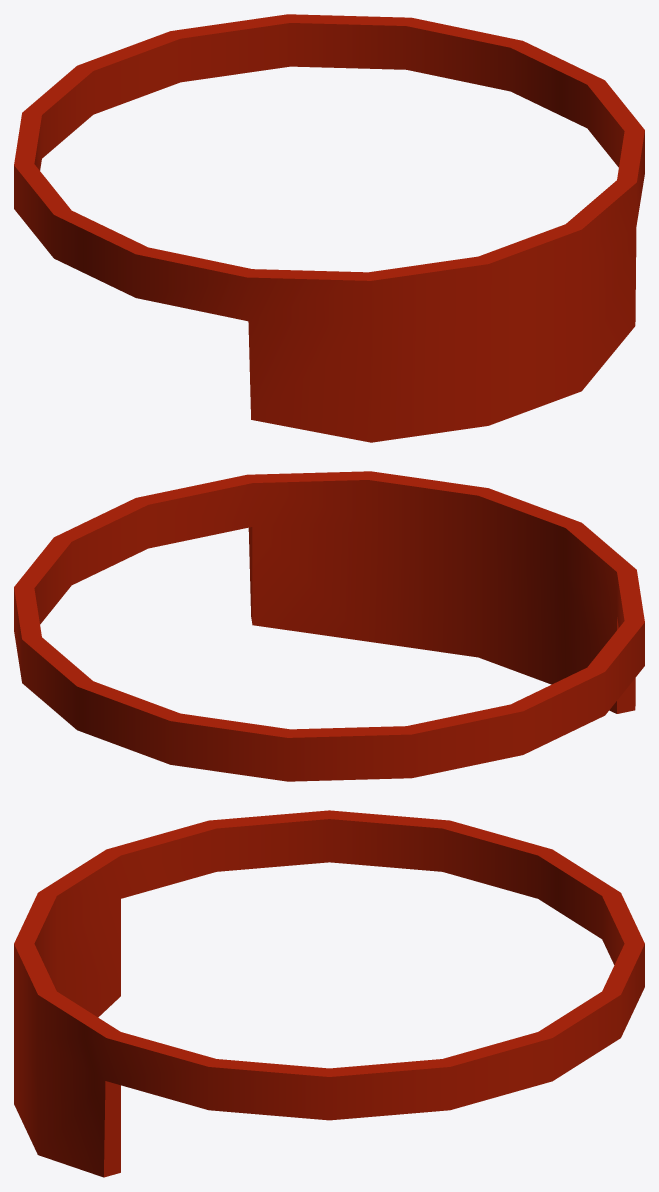
The model's file is Body_Prop_Cooking_Apron_Bib_01.fbx.
3 views of the same model, one above another, from view 1: azimuth 30°, elevation 25°; view 2: azimuth 150°, elevation 25°; view 3: azimuth 270°, elevation 25° (orthographic).
Parts seen in each view (by area): view 1: Body_Prop_Cooking_Apron_Bib_01; view 2: Body_Prop_Cooking_Apron_Bib_01; view 3: Body_Prop_Cooking_Apron_Bib_01.
Part boxes in pixels (left/top/right/bottom): Body_Prop_Cooking_Apron_Bib_01: left=14, top=14, right=644, bottom=442; Body_Prop_Cooking_Apron_Bib_01: left=14, top=471, right=644, bottom=781; Body_Prop_Cooking_Apron_Bib_01: left=14, top=810, right=644, bottom=1177.
Bounding box in the file's own units: 102 × 28.62 × 102.
